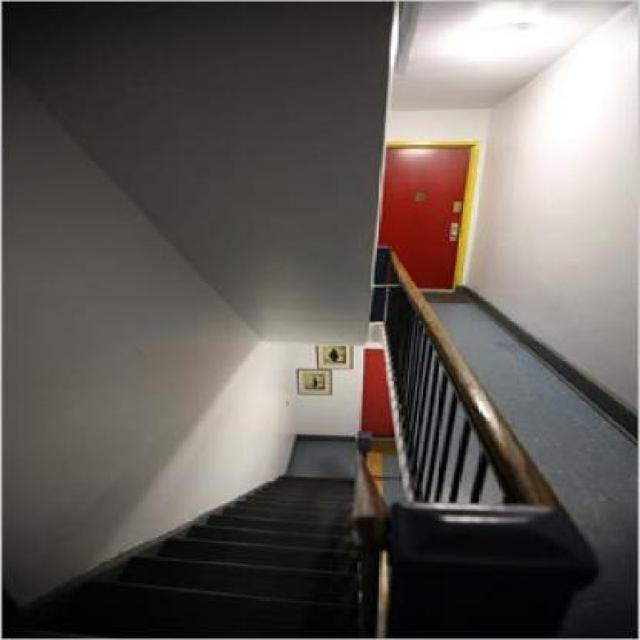stair: (1, 423, 452, 640)
